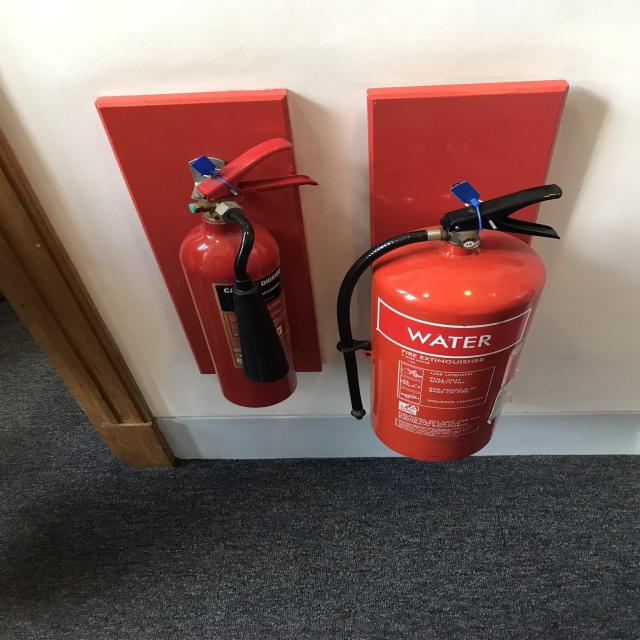fire_extinguisher: (332, 181, 568, 465), (173, 134, 326, 411)
